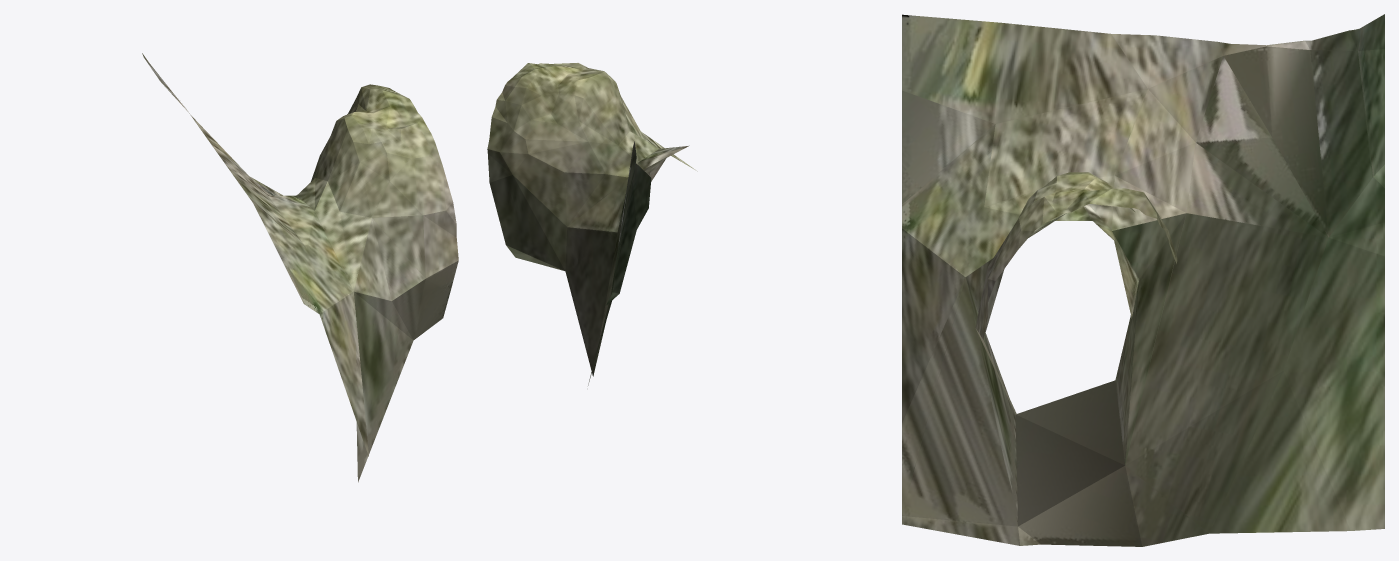
3 renders of one model, left to right at view 1: azimuth 30°, elevation 25°; view 2: azimuth 150°, elevation 25°; view 3: azimuth 270°, elevation 25°, orthographic. The views are drawn at different scales.
Size of the model in its own units: 3.97 by 5.9 by 5.9.
Materials: 4 (4 with a texture image).
